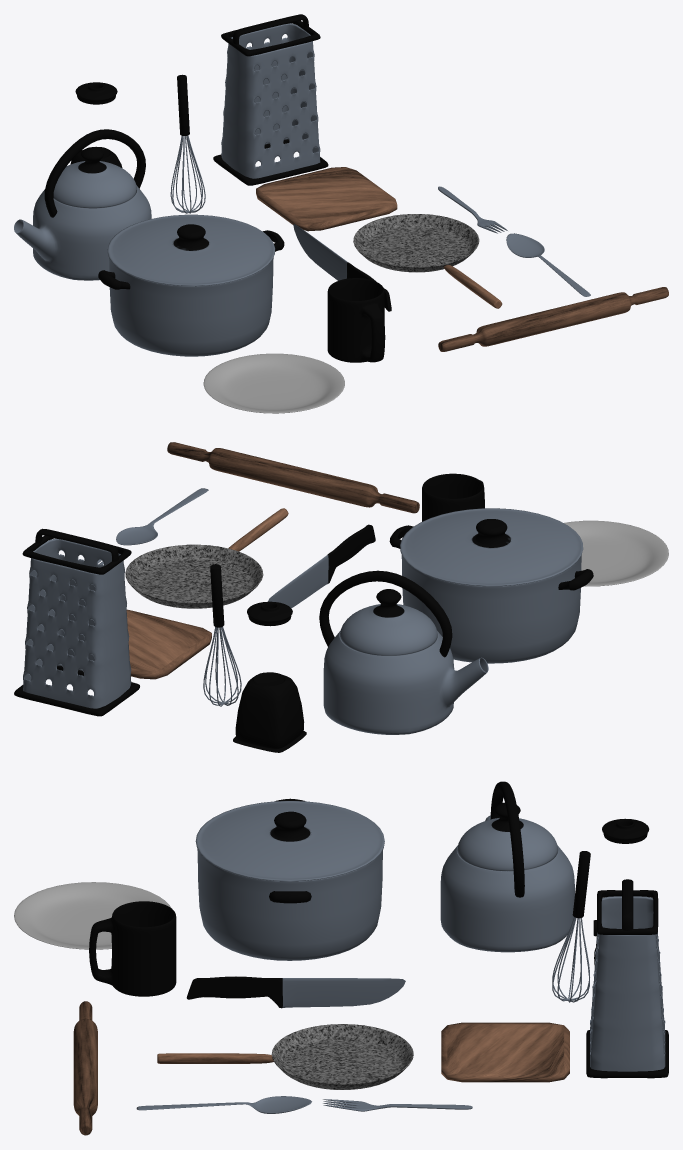
File: Kitchen_set.fbx
The picture shows the model from 3 angles, top to bottom: view 1: azimuth 30°, elevation 25°; view 2: azimuth 150°, elevation 25°; view 3: azimuth 270°, elevation 25°; orthographic projection. The views are drawn at different scales.
Parts seen in each view (by area): view 1: Grater, Pot, Pot_lid, Teapot, A_bowl, Frying_pan, Board, Mug, Rolling_pin, Teapot_lid, Whisk, Knife (+2 smaller); view 2: Grater, Teapot, Pot, Pot_lid, Frying_pan, Rolling_pin, A_bowl, Blender, Teapot_lid, Board, Knife, Mug (+3 smaller); view 3: Pot, Grater, Teapot, Pot_lid, Frying_pan, Board, Mug, A_bowl, Knife, Teapot_lid, Rolling_pin, Whisk (+3 smaller).
Part boxes in pixels (x1,y1,x2,y2): Grater: (213,14,328,185); Pot: (98,230,284,356); Pot_lid: (107,214,275,286); Teapot: (14,129,151,280); A_bowl: (203,353,344,413); Frying_pan: (353,214,502,308); Board: (256,167,397,231); Mug: (327,278,385,362); Rolling_pin: (438,287,668,351); Teapot_lid: (53,147,136,208); Whisk: (170,74,205,213); Knife: (293,224,391,311); Grater: (14,528,139,716); Teapot: (319,570,488,734); Pot: (389,525,593,663); Pot_lid: (400,508,583,586); Frying_pan: (125,508,288,608); Rolling_pin: (167,442,419,513); A_bowl: (564,520,668,586); Blender: (233,672,306,752); Teapot_lid: (340,589,437,655); Board: (126,609,211,679); Knife: (268,524,375,608); Mug: (422,473,484,521); Pot: (197,798,383,960); Grater: (586,879,668,1078); Teapot: (440,781,574,952); Pot_lid: (195,801,384,881); Frying_pan: (157,1024,413,1089); Board: (441,1022,569,1082); Mug: (89,901,176,996); A_bowl: (14,882,170,949); Knife: (186,976,405,1008); Teapot_lid: (457,802,557,870); Rolling_pin: (73,1001,97,1135); Whisk: (552,851,590,1002).
Size of the model in its own units: 0.6328 by 0.1853 by 0.6731.
